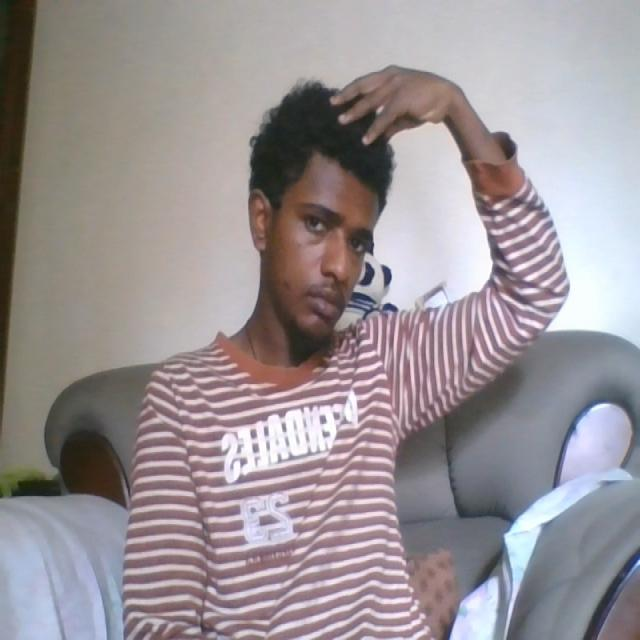mengist: (313, 63, 426, 162)
